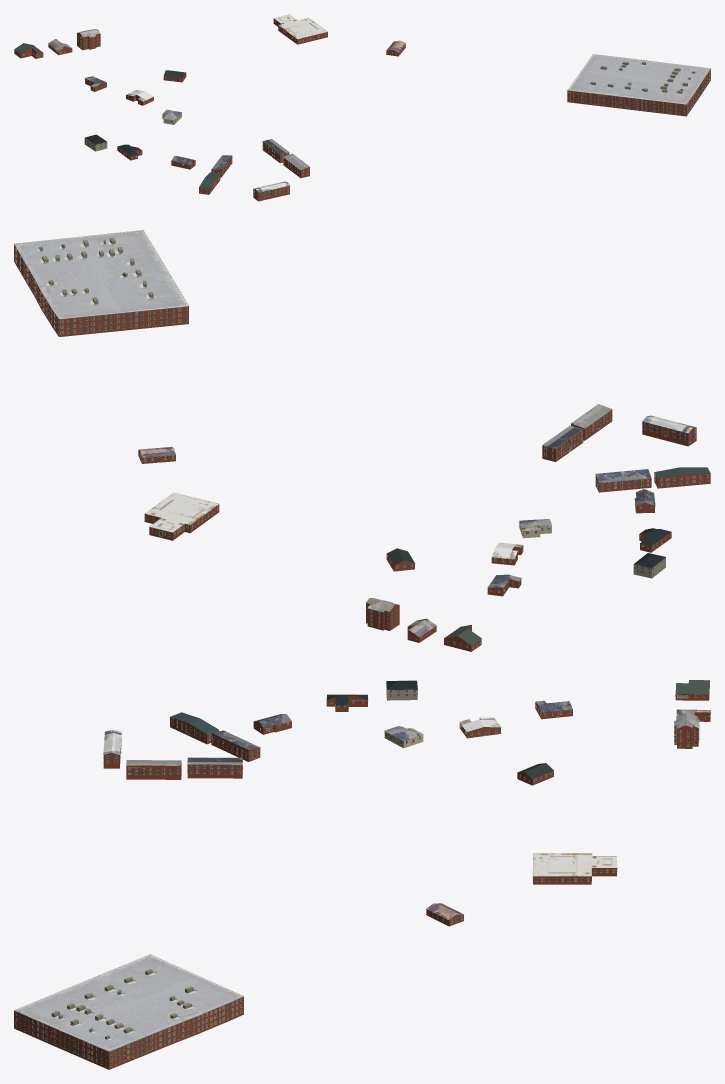
The picture shows the model from 3 angles, top to bottom: view 1: azimuth 30°, elevation 25°; view 2: azimuth 150°, elevation 25°; view 3: azimuth 270°, elevation 25°; orthographic projection. The views are drawn at different scales.
Parts seen in each view (by area): view 1: -5_2_596122286_0, -5_2_598392389_5; view 2: -5_2_596122286_0, -5_2_598392389_5; view 3: -5_2_596122286_0, -5_2_598392389_5.
Boxes of the visible parts, x1,y1,x2,y2 form: -5_2_596122286_0: (14,14,710,201); -5_2_598392389_5: (14,43,219,187); -5_2_596122286_0: (14,230,710,651); -5_2_598392389_5: (387,467,710,645); -5_2_596122286_0: (14,680,710,1069); -5_2_598392389_5: (170,680,709,779).
Bounding box in the file's own units: 556 × 29.17 × 416.
Materials: 13 (1 with a texture image).
